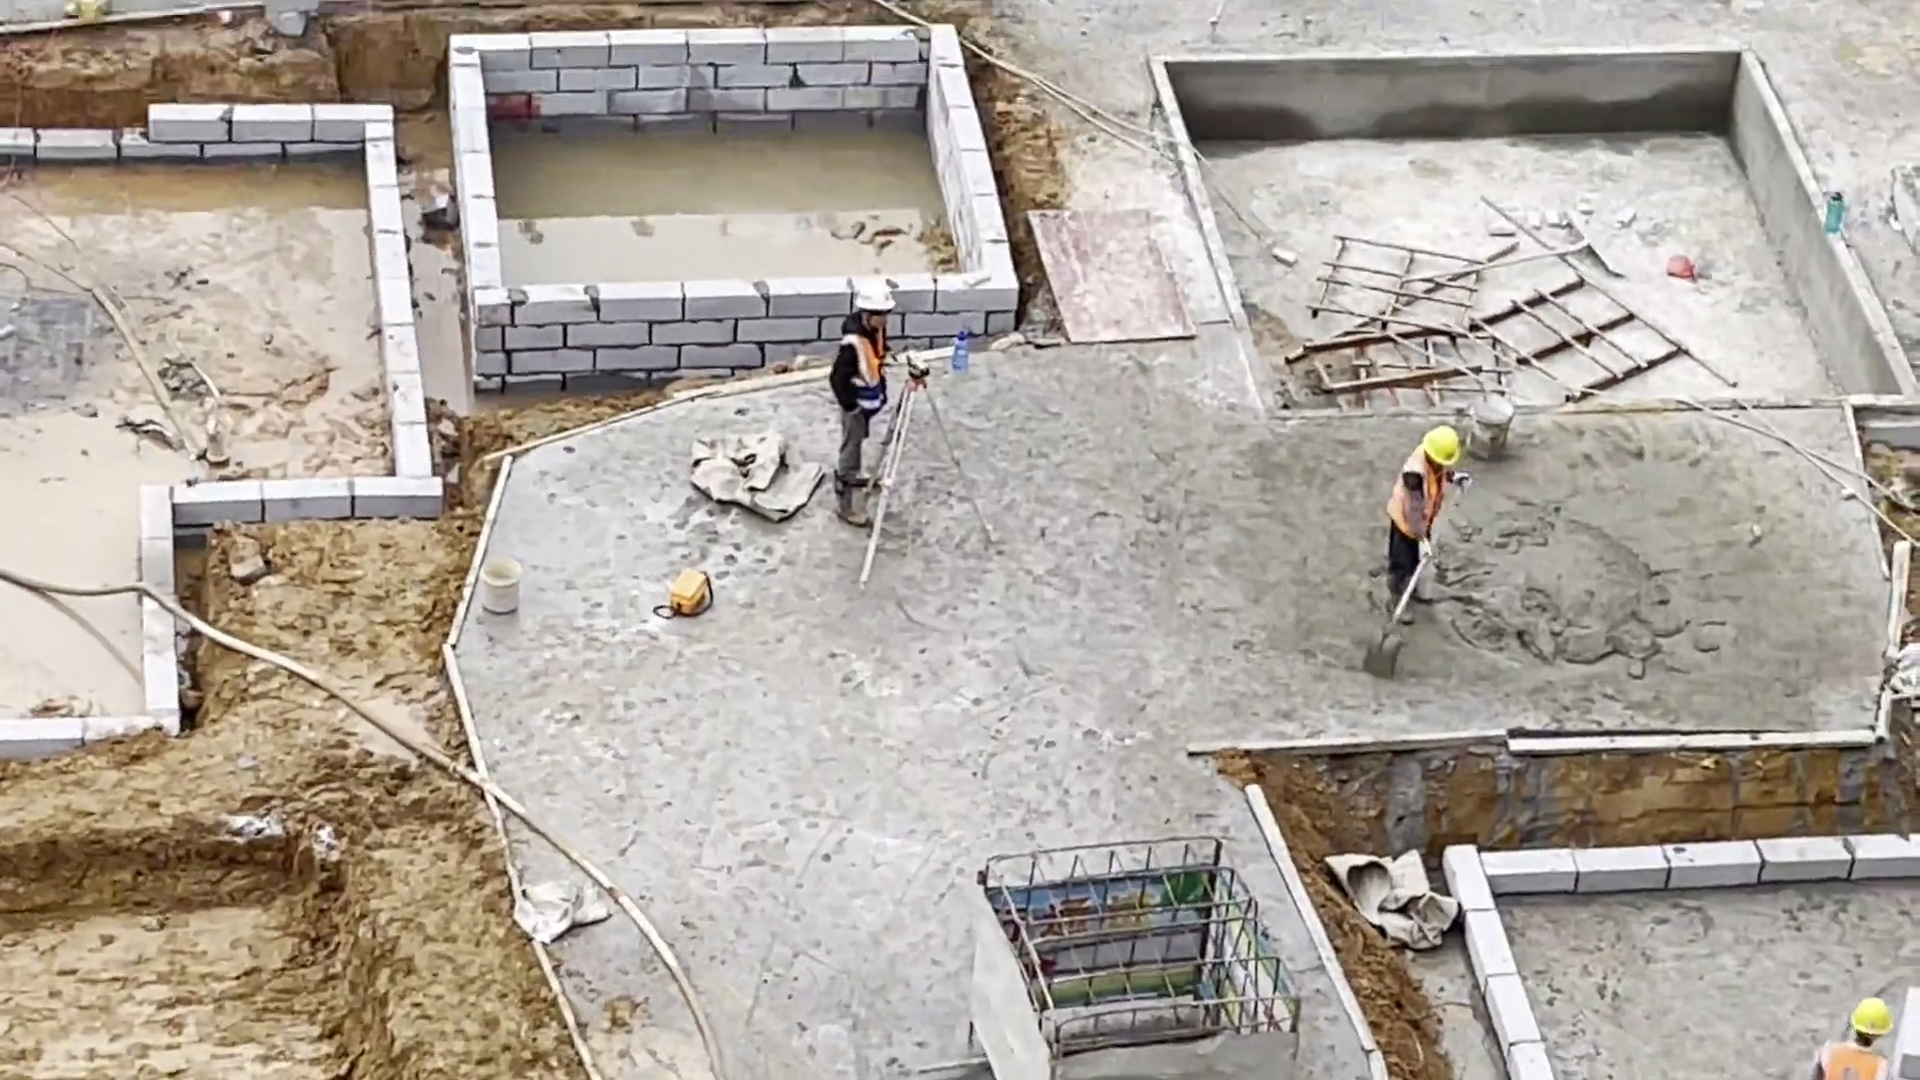helmet: (1412, 418, 1472, 467), (850, 272, 904, 312), (1853, 994, 1899, 1037)
person: (825, 267, 911, 535), (1393, 414, 1469, 631), (1822, 984, 1908, 1080)
vest: (1390, 456, 1453, 537), (844, 333, 899, 410)
